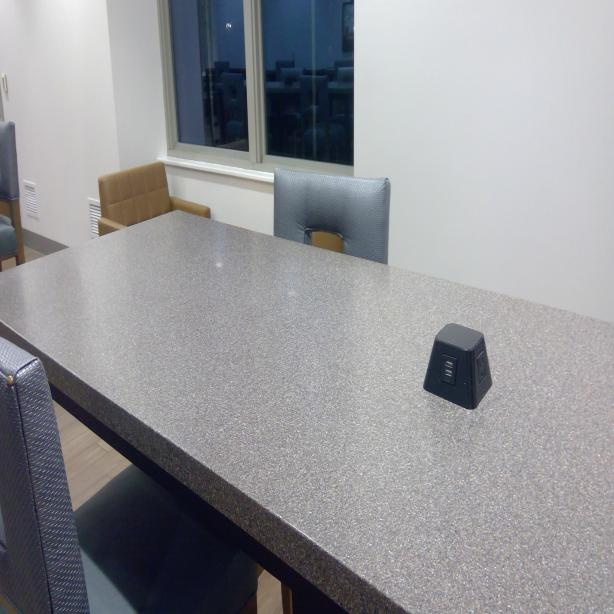typeb: (475, 347, 487, 379)
